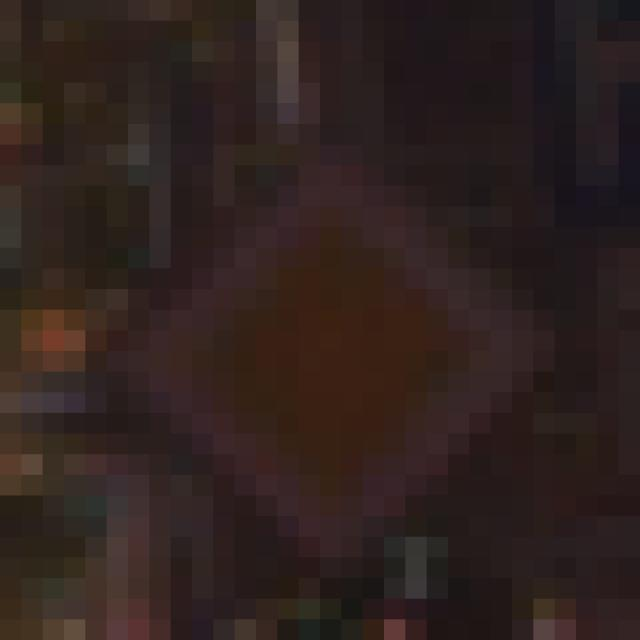Main Road: (108, 104, 513, 538)
